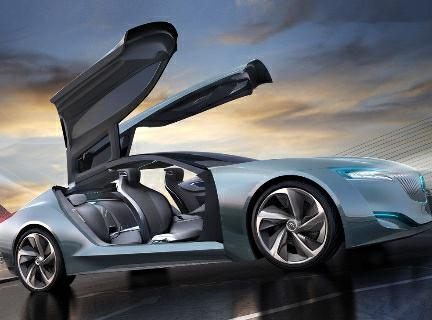别克-Riviera: (4, 154, 428, 295)
